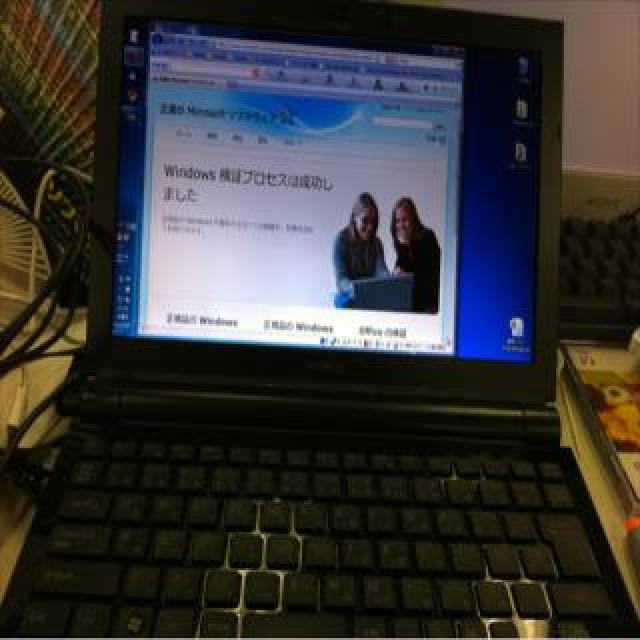laptop_computer: (72, 0, 615, 640)
